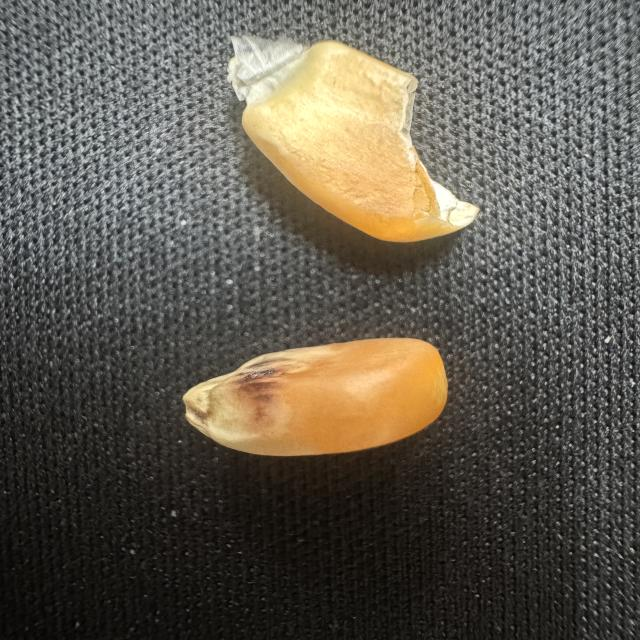Bad-Seed: (223, 25, 484, 246), (179, 332, 455, 460)
